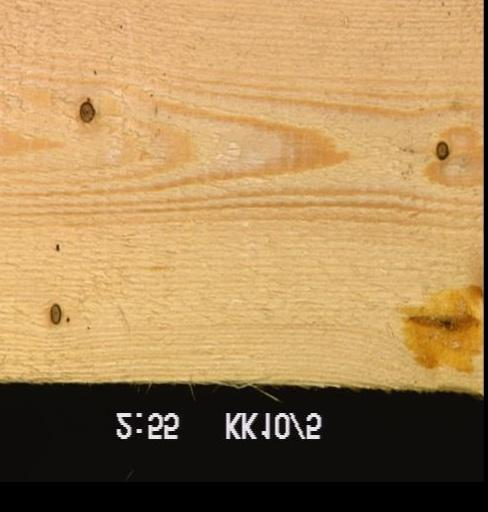dry_knot: (77, 96, 94, 124), (47, 301, 61, 325), (433, 140, 448, 160)
